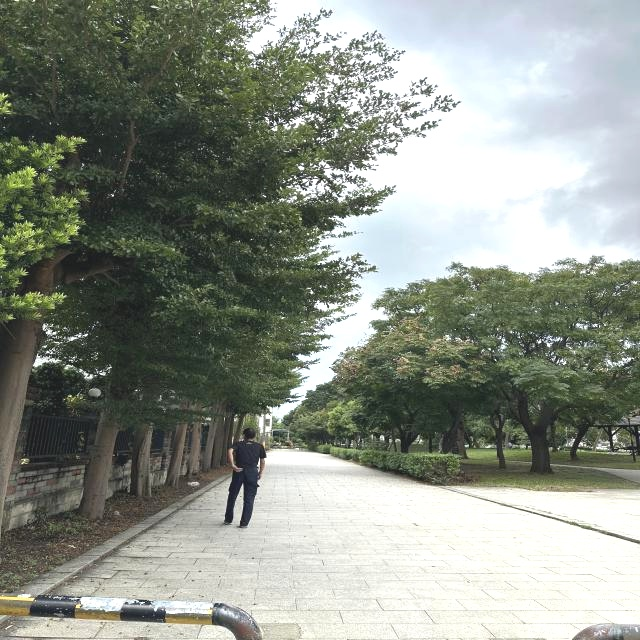Sin_Casco_Mascarrilla: (242, 428, 256, 440)
Sin_Chaleco: (233, 441, 261, 467)
